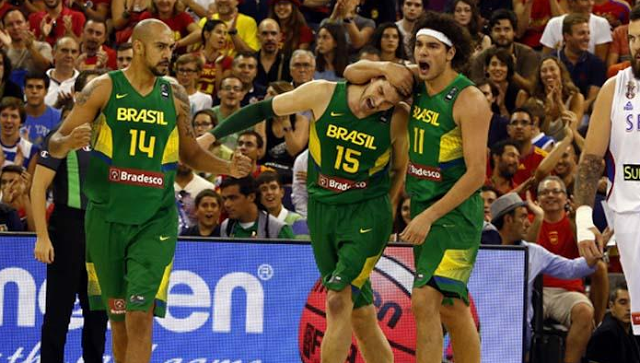player: (49, 16, 209, 363), (350, 15, 507, 363), (220, 69, 403, 363), (575, 12, 640, 341)
